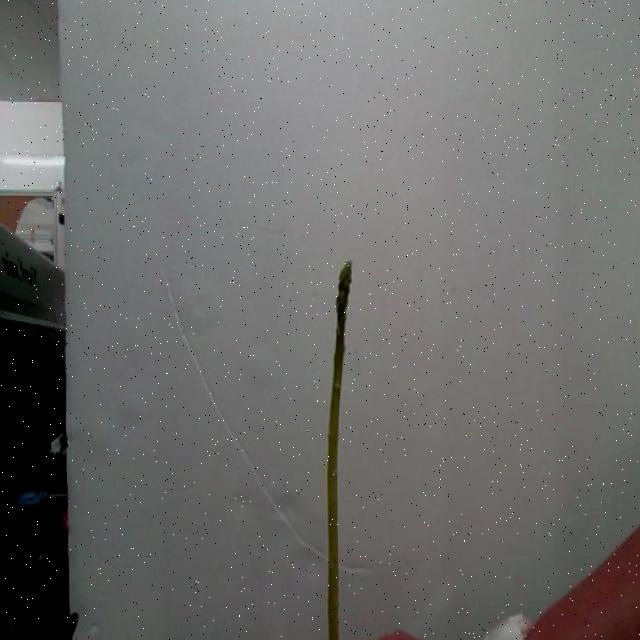aspargus: (328, 263, 354, 640)
